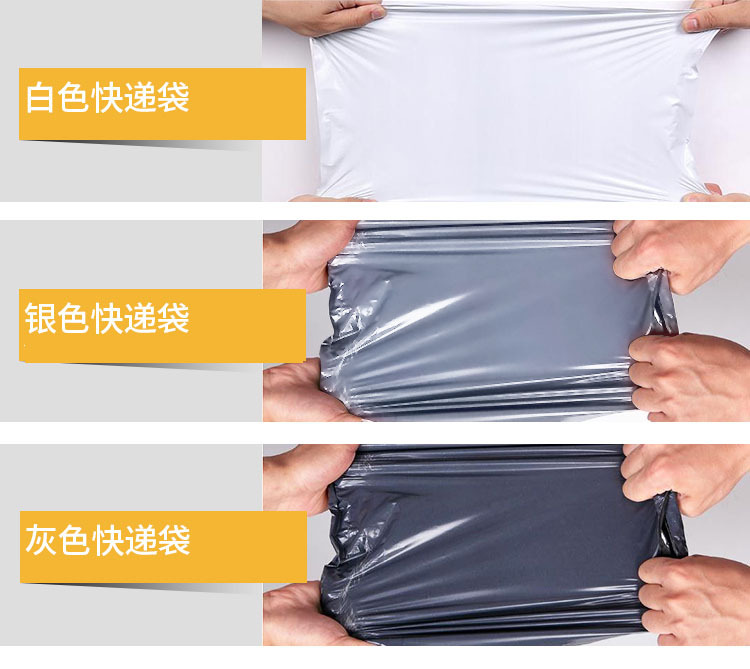塑料袋: (311, 0, 713, 201), (319, 444, 688, 643), (320, 221, 677, 419)
